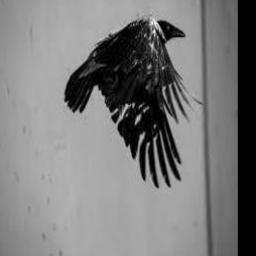Crow: (63, 18, 204, 188)
